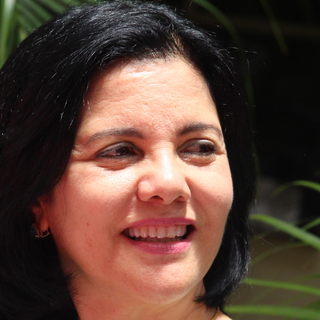eye: (92, 140, 145, 166), (175, 138, 222, 164)
